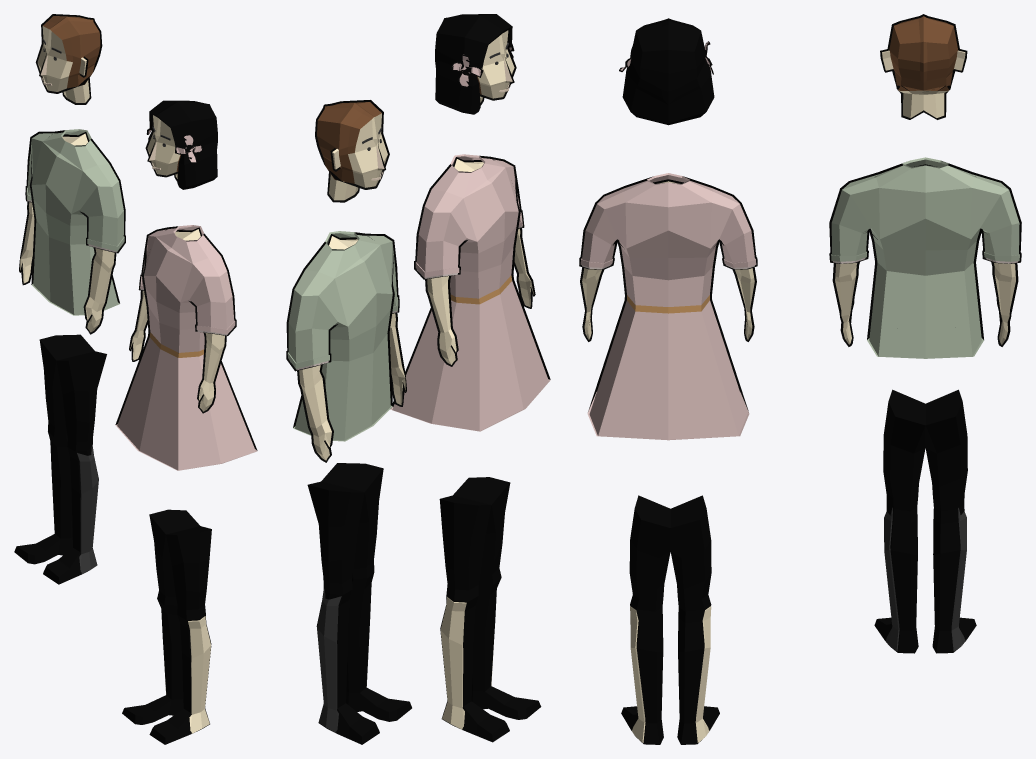
File: dollssizefix.fbx
3 views of the same model, side by side, from view 1: azimuth 30°, elevation 25°; view 2: azimuth 150°, elevation 25°; view 3: azimuth 270°, elevation 25° (orthographic). The views are drawn at different scales.
Visible parts, largest first — view 1: dress.001, dress.002, body.004, body.006, body.003, hair.001, body.002, body.001, body.005, flower1.001; view 2: dress.001, dress.002, body.004, body.006, body.003, hair.001, body.002, body.001, body.005, flower2.001; view 3: dress.001, dress.002, body.004, body.006, hair.001, body.003, body.002, body.001.
Boxes of the visible parts, bbox=[...] form: dress.001: bbox=[115, 225, 257, 470]; dress.002: bbox=[25, 129, 125, 315]; body.004: bbox=[14, 334, 106, 584]; body.006: bbox=[122, 509, 211, 744]; body.003: bbox=[35, 14, 102, 104]; hair.001: bbox=[148, 100, 217, 189]; body.002: bbox=[19, 132, 116, 334]; body.001: bbox=[129, 227, 226, 413]; body.005: bbox=[145, 115, 180, 181]; flower1.001: bbox=[175, 133, 203, 164]; dress.001: bbox=[390, 154, 550, 431]; dress.002: bbox=[286, 231, 399, 441]; body.004: bbox=[307, 463, 411, 744]; body.006: bbox=[439, 477, 541, 742]; body.003: bbox=[315, 100, 389, 202]; hair.001: bbox=[435, 14, 513, 114]; body.002: bbox=[297, 234, 406, 462]; body.001: bbox=[425, 157, 535, 366]; body.005: bbox=[477, 29, 516, 105]; flower2.001: bbox=[450, 54, 483, 88]; dress.001: bbox=[579, 173, 757, 440]; dress.002: bbox=[829, 157, 1021, 358]; body.004: bbox=[874, 389, 976, 653]; body.006: bbox=[621, 495, 719, 744]; hair.001: bbox=[622, 18, 714, 125]; body.003: bbox=[880, 14, 967, 119]; body.002: bbox=[832, 164, 1018, 346]; body.001: bbox=[580, 179, 756, 341].
Bounding box in the file's own units: 157 × 994 × 555.
